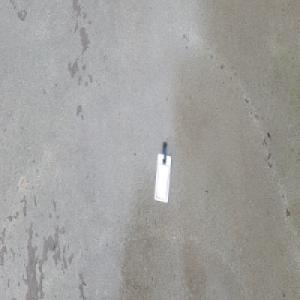LuggageTag: (153, 141, 172, 205)
